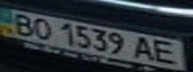1: (51, 20, 78, 46)
3: (90, 27, 109, 53)
5: (72, 22, 93, 50)
9: (106, 29, 130, 56)
A: (130, 34, 160, 62)
B: (6, 11, 39, 36)
E: (151, 38, 184, 65)
O: (27, 16, 57, 40)
